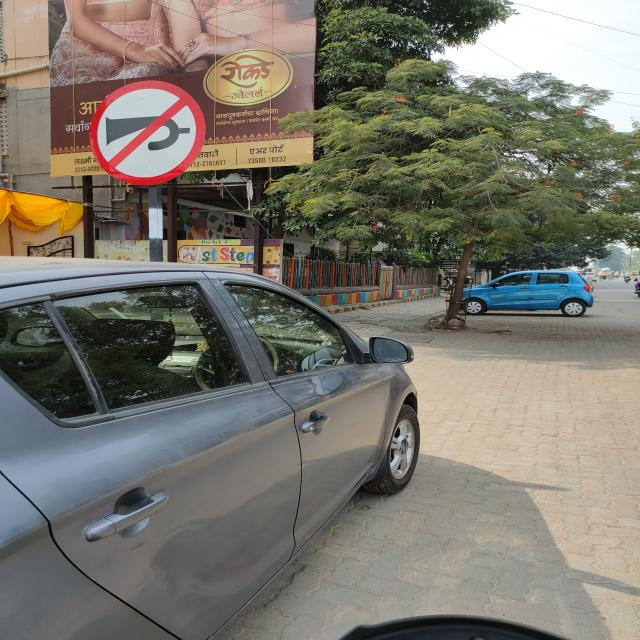HORN_PROHIBITED: (80, 78, 208, 186)
